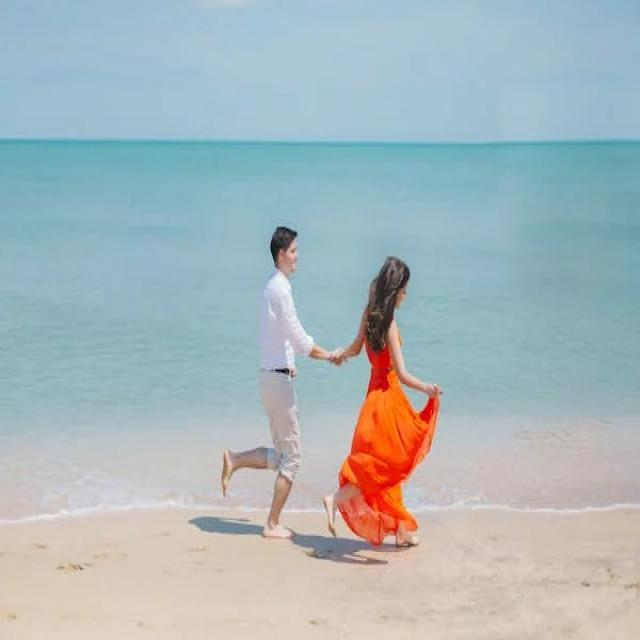Real human 2: (211, 210, 457, 570)
